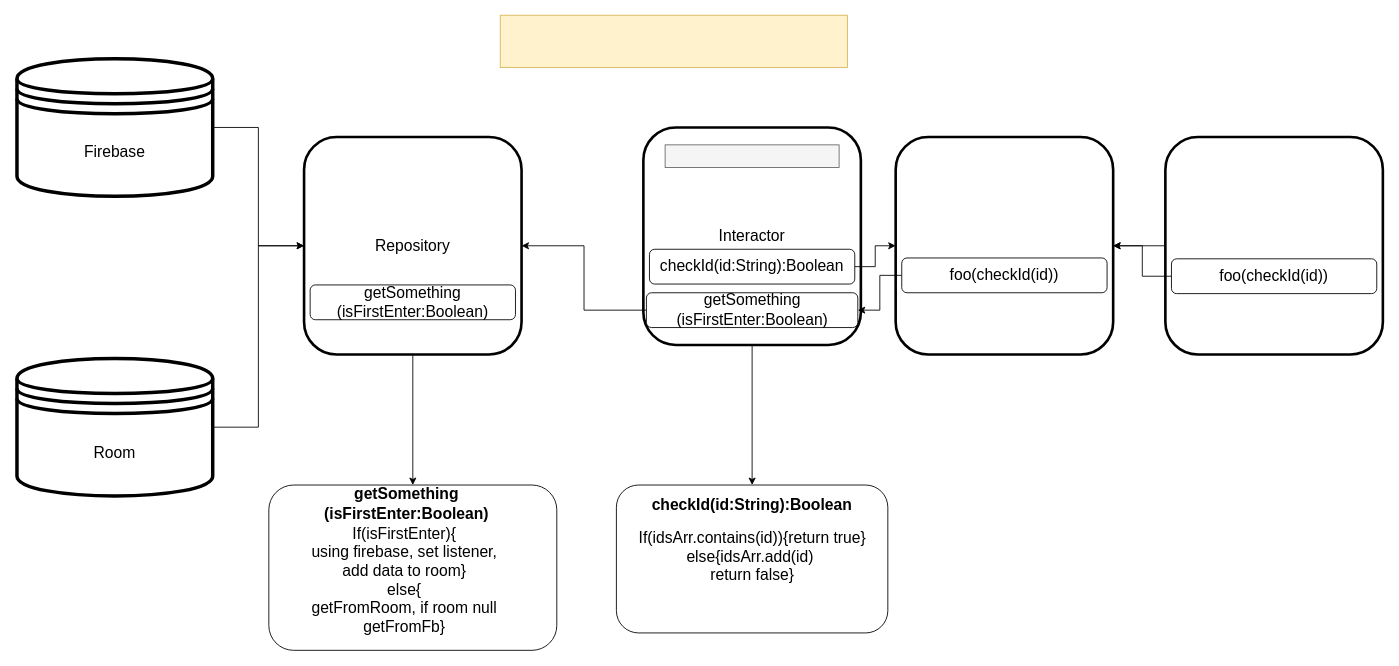
Image size: 1399x666. Some labels were removed from this diagram. Each missing label, with the box of its shape:
Presentor: (894, 135, 1114, 355)
private val idsArr = null: (664, 144, 839, 167)
View: (1164, 135, 1384, 355)
Work with get data and set listener: (499, 14, 847, 67)
